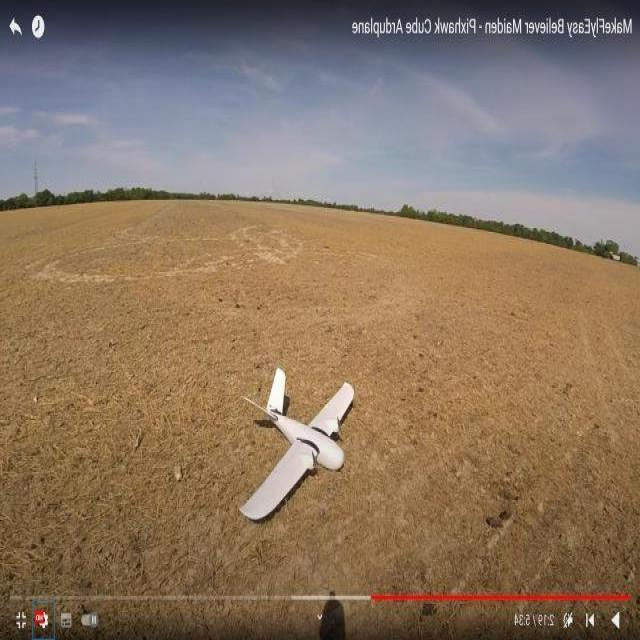UAV: (208, 378, 368, 512)
